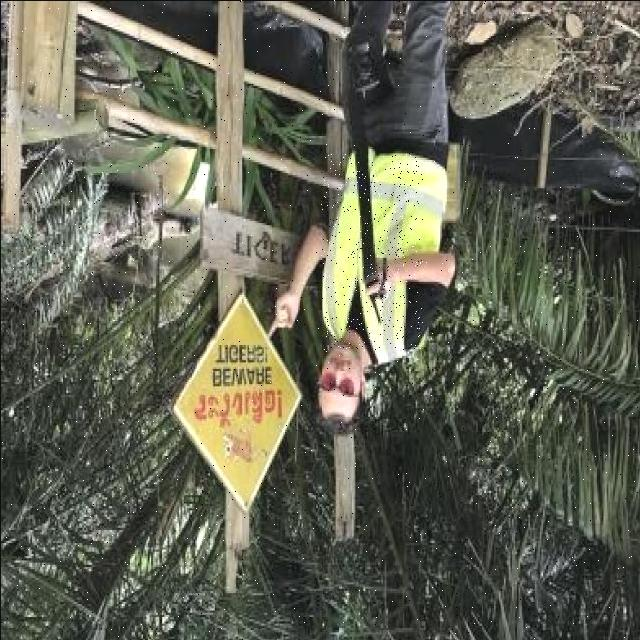Vest: (320, 153, 422, 349)
